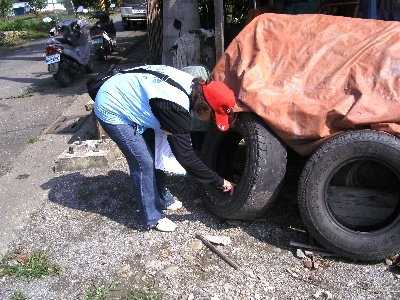plastic_bag: (211, 13, 400, 155)
tire: (297, 129, 400, 264), (197, 110, 289, 220)
